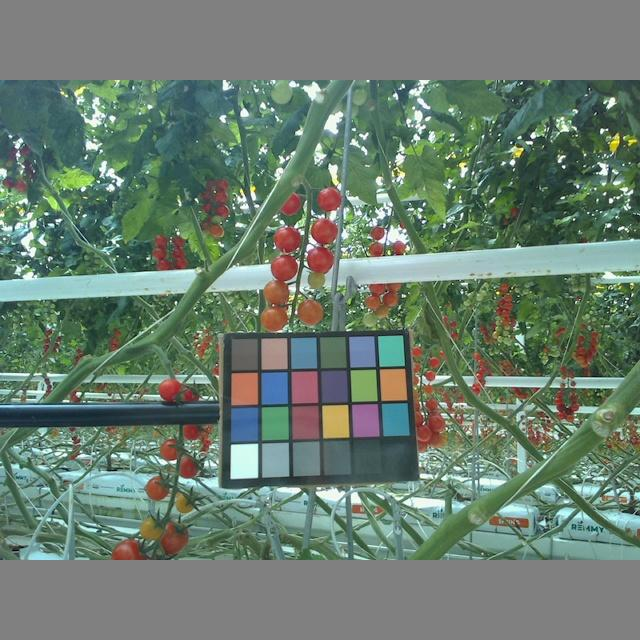green: (308, 270, 326, 290)
pink: (259, 305, 289, 332), (296, 299, 324, 325), (144, 474, 170, 502), (263, 278, 290, 304), (140, 513, 164, 540), (173, 489, 198, 512)
red: (157, 520, 189, 553), (269, 253, 298, 281), (311, 217, 338, 246), (272, 227, 302, 253), (307, 245, 335, 272), (315, 185, 342, 212), (156, 375, 183, 402), (174, 454, 199, 479), (159, 438, 184, 461)
